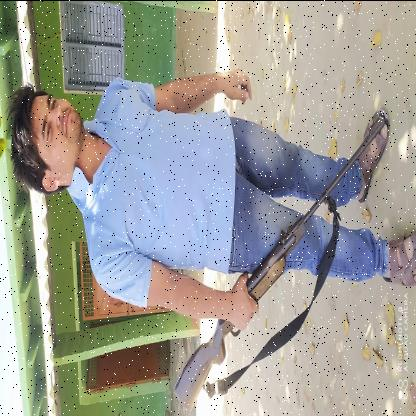rifle: (173, 106, 387, 414)
